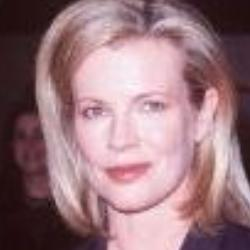face: (23, 5, 244, 232)
